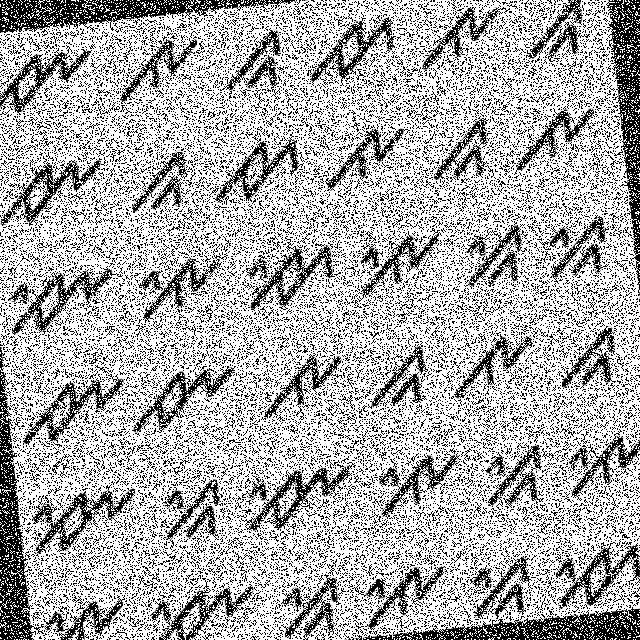a: (442, 324, 538, 408), (253, 346, 349, 428), (504, 96, 600, 174), (316, 120, 410, 198), (113, 31, 206, 105), (410, 0, 508, 70)
i: (344, 219, 452, 304), (351, 556, 453, 634), (366, 445, 464, 524), (127, 250, 225, 324), (557, 425, 639, 504), (32, 592, 131, 639)
ja: (204, 128, 308, 211), (304, 9, 404, 86)
ji: (236, 235, 340, 316), (540, 536, 639, 613)
ngga: (116, 143, 201, 225), (414, 114, 500, 192), (215, 22, 292, 98), (549, 321, 624, 397), (513, 0, 590, 72), (362, 342, 429, 412)
nggi: (150, 470, 230, 554), (540, 210, 622, 288), (266, 569, 348, 639), (470, 437, 546, 512), (461, 552, 536, 626), (459, 221, 531, 295)
nja: (14, 363, 130, 460), (128, 358, 243, 445), (0, 147, 109, 234), (0, 40, 98, 128)
nji: (0, 251, 126, 348), (231, 454, 361, 544), (18, 476, 144, 568), (135, 575, 262, 639)
